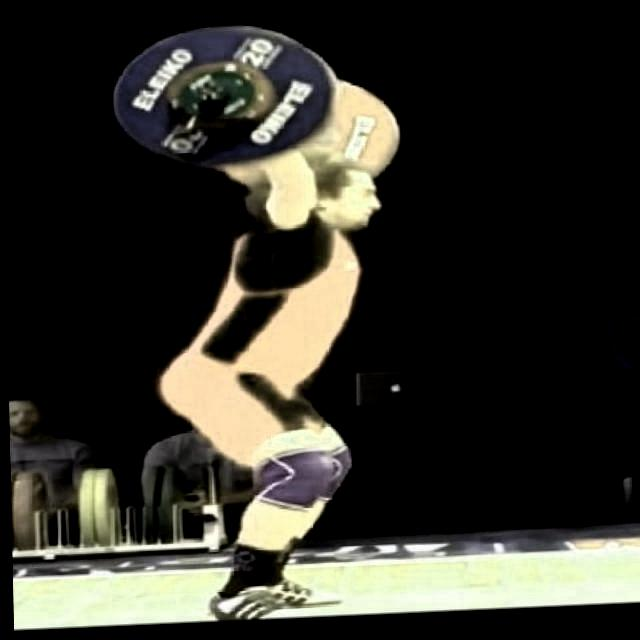barbell: (108, 18, 340, 177)
